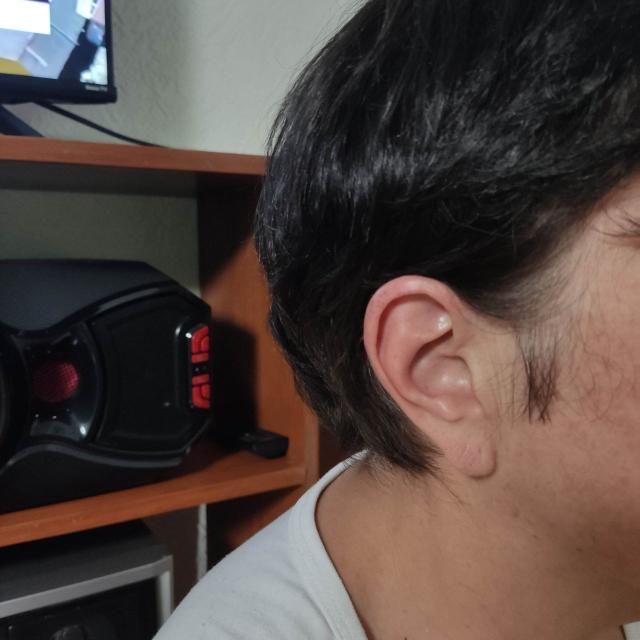ear: (365, 276, 498, 478)
